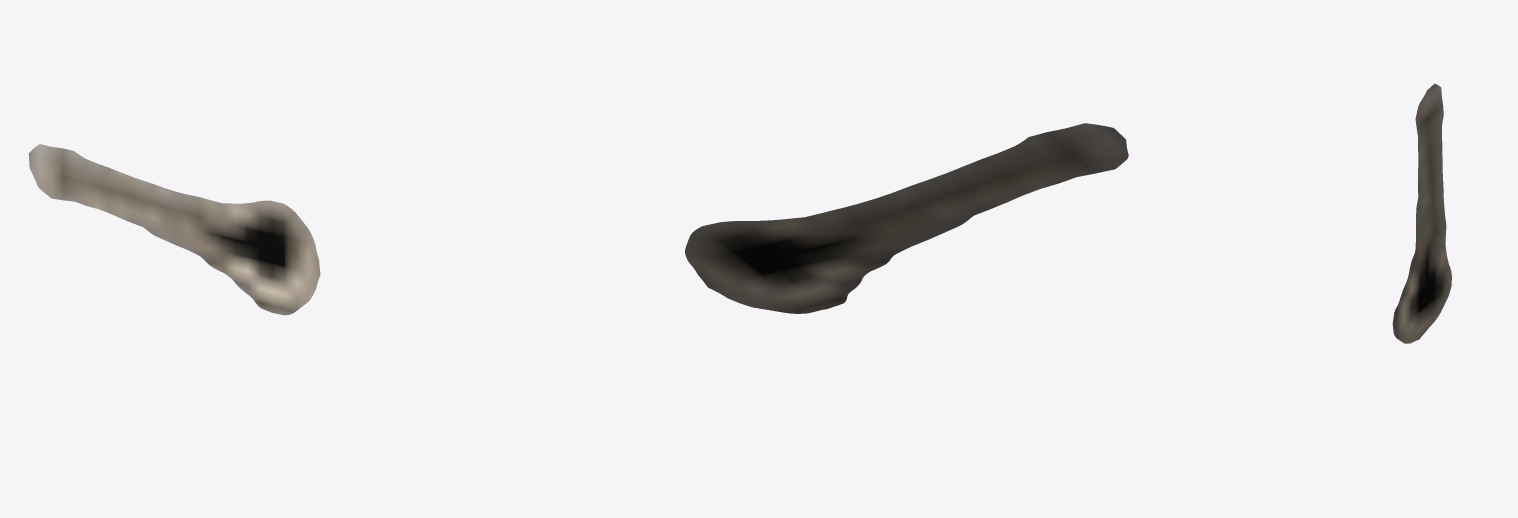
File: noch_Colar kaaj_wide.glb
3 views of the same model, side by side, from view 1: azimuth 30°, elevation 25°; view 2: azimuth 150°, elevation 25°; view 3: azimuth 270°, elevation 25° (orthographic). The views are drawn at different scales.
Parts seen in each view (by area): view 1: noch_kaaj_wide1; view 2: noch_kaaj_wide1; view 3: noch_kaaj_wide1.
Part boxes in pixels (<box>): noch_kaaj_wide1: <box>28,144,320,315</box>; noch_kaaj_wide1: <box>685,123,1128,313</box>; noch_kaaj_wide1: <box>1392,83,1451,343</box>.
Size of the model in its own units: 0.00373 by 0.00351 by 0.00147.
1 material, 1 textured.
